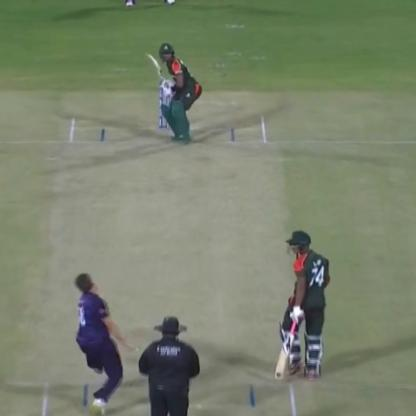bat: (272, 308, 302, 382), (135, 40, 172, 91)
pitch: (38, 114, 305, 415)
